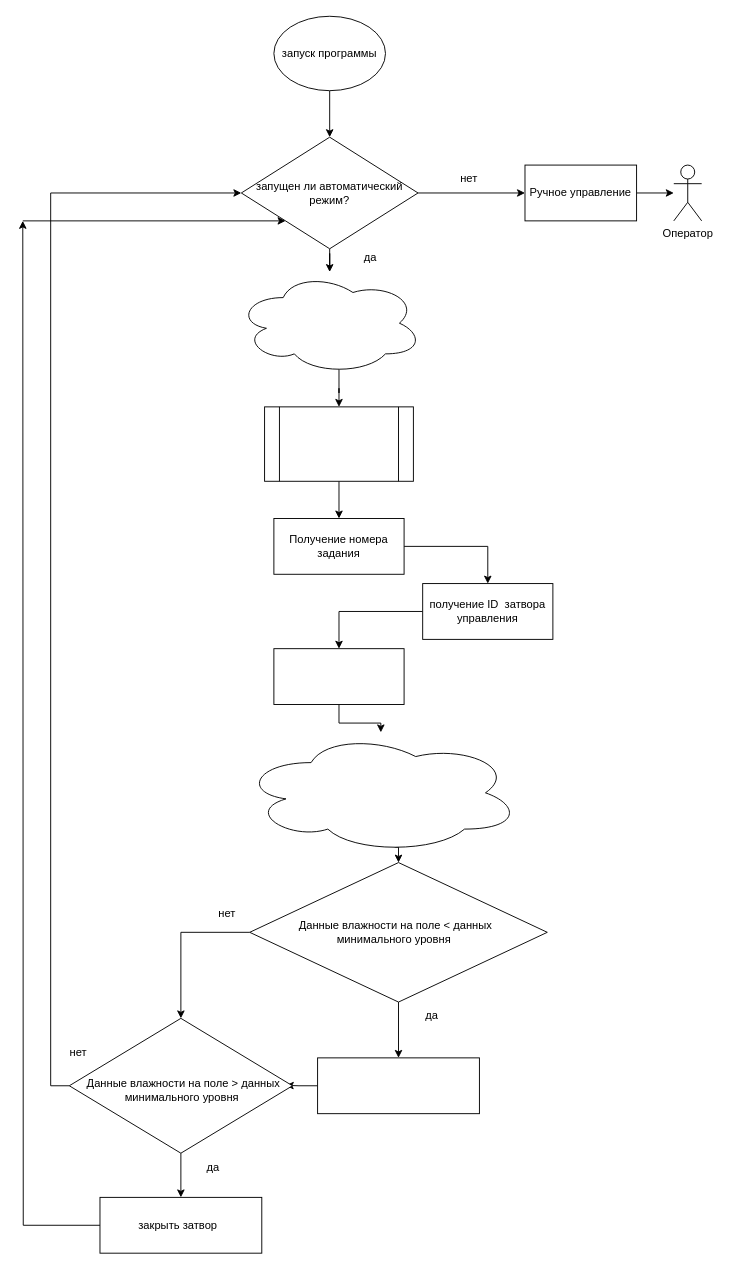
This 729x1269 diagram has some shape labels left out. Here are the shapes that lost their labels. From the top down, the centre of each, then its label:
(329,322): получение заданий из базы данных
(338,443): Обработка заданий
(338,676): Получение минимального и максимального уровня влажности
(380,792): Получение актуальных данных с датчиков влажности
(398,1085): открыть затвор
